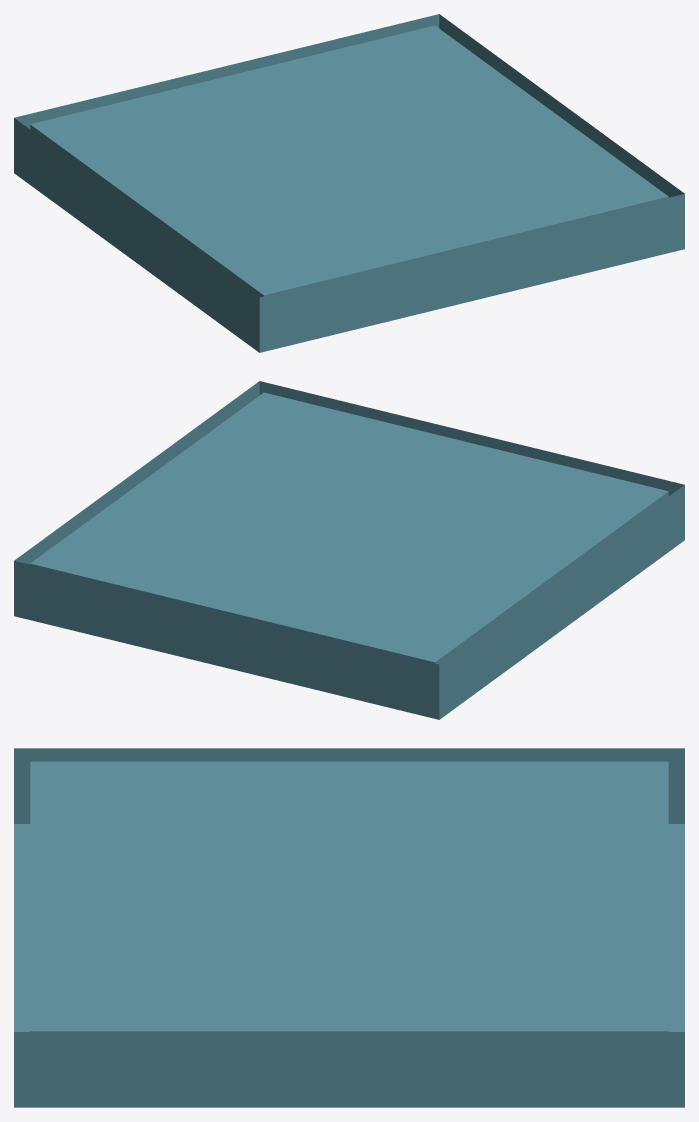
File: Compuerta.fbx
The picture shows the model from 3 angles, top to bottom: view 1: azimuth 30°, elevation 25°; view 2: azimuth 150°, elevation 25°; view 3: azimuth 270°, elevation 25°; orthographic projection. The views are drawn at different scales.
Visible parts, largest first — view 1: polySurface10; view 2: polySurface10; view 3: polySurface10.
Part boxes in pixels (x1,y1,x2,y2): polySurface10: [14, 14, 684, 352]; polySurface10: [14, 381, 684, 719]; polySurface10: [14, 748, 684, 1107].
Size of the model in its own units: 3.07 by 0.3819 by 3.07.
